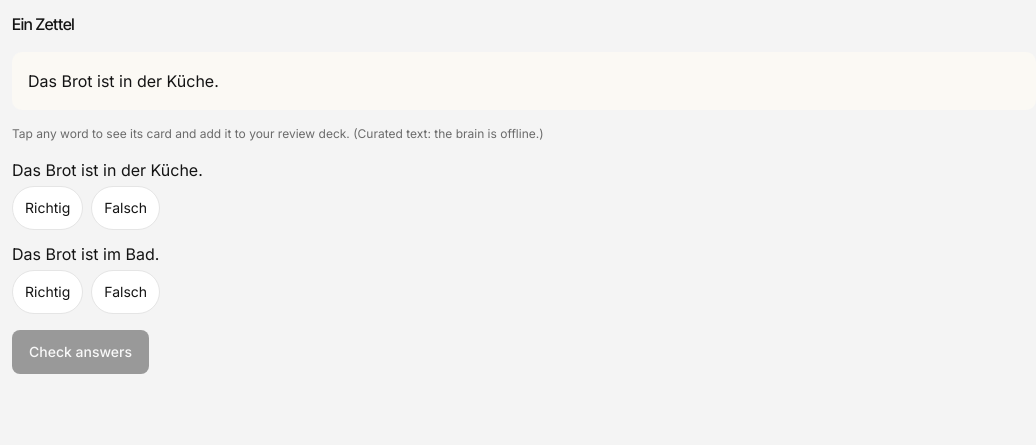
it: reading panel › tapping a word shows its card essentials and deck status
Step 1. Click the button with test id "reading-word-2" → (77, 81), box [62,68,93,94]
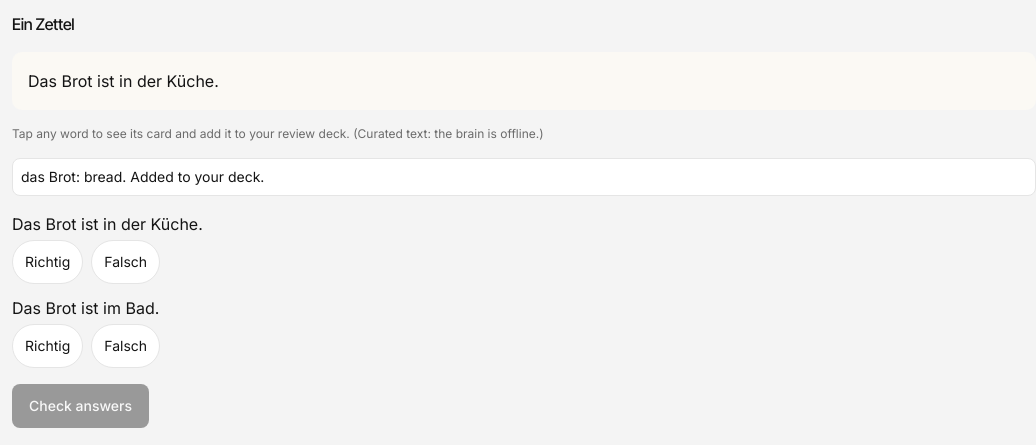
Now the message with test id "tap-result" shows "bread", box [21,168,264,185]
Now the message with test id "tap-result" shows "Added to your deck", box [21,168,264,185]
